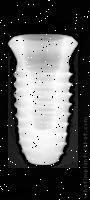Cowellmedi: (3, 33, 78, 169)
